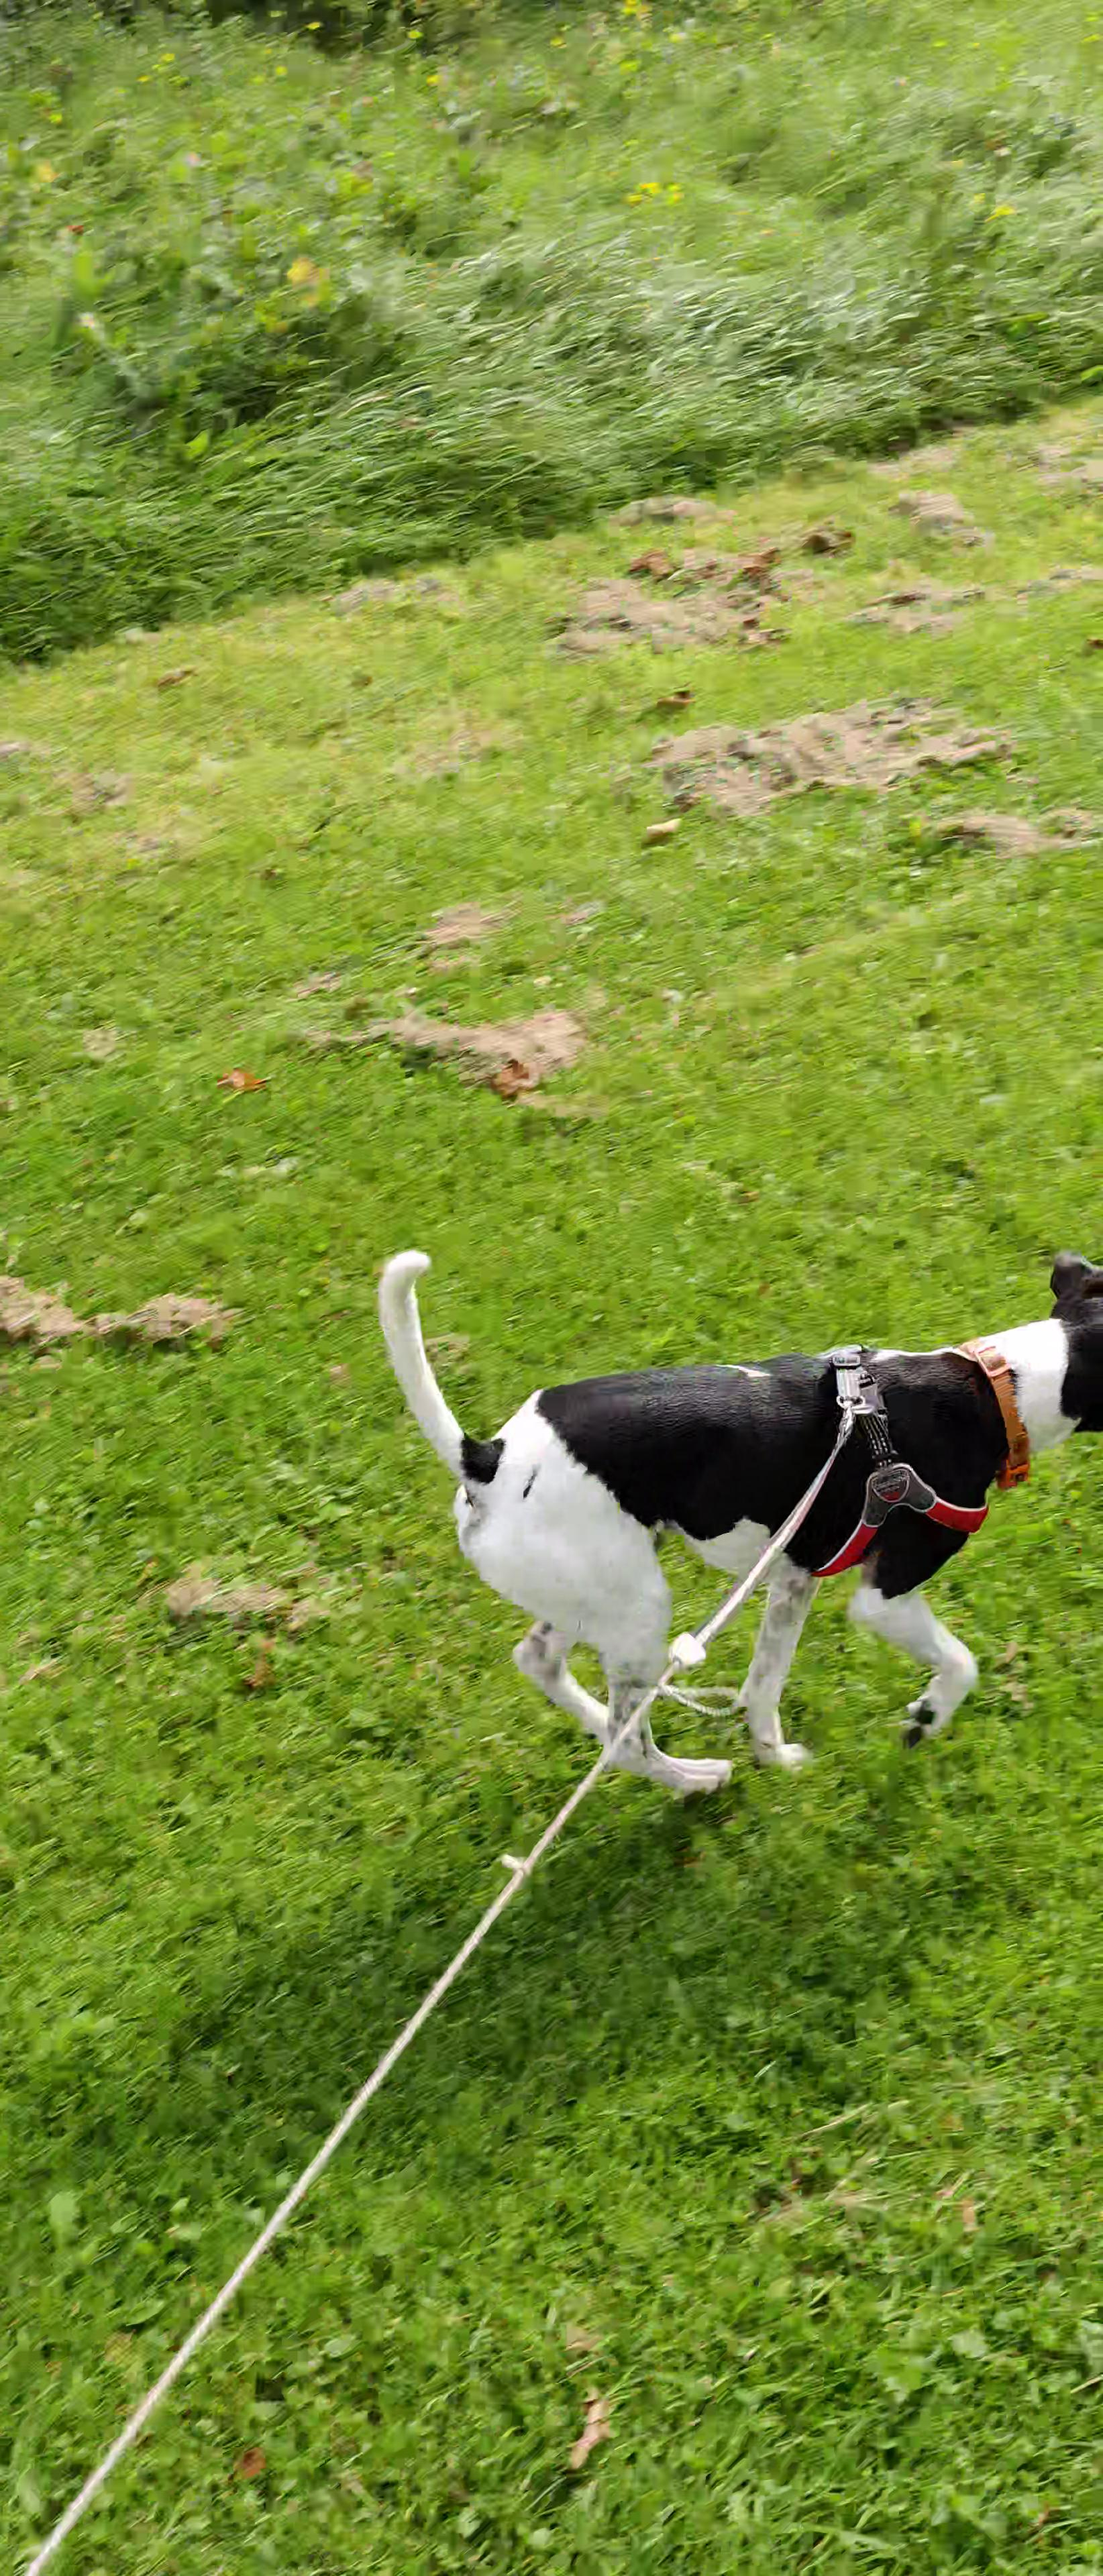Dog: (357, 1222, 1103, 1807)
